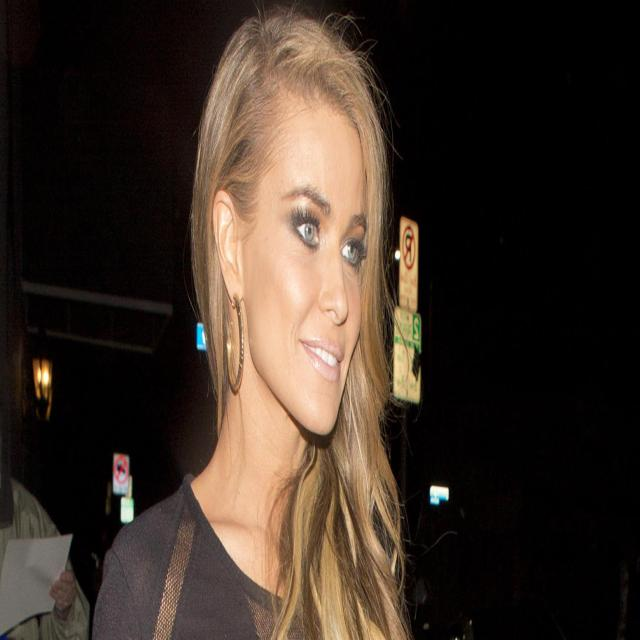no-earmuff: (212, 188, 244, 305)
